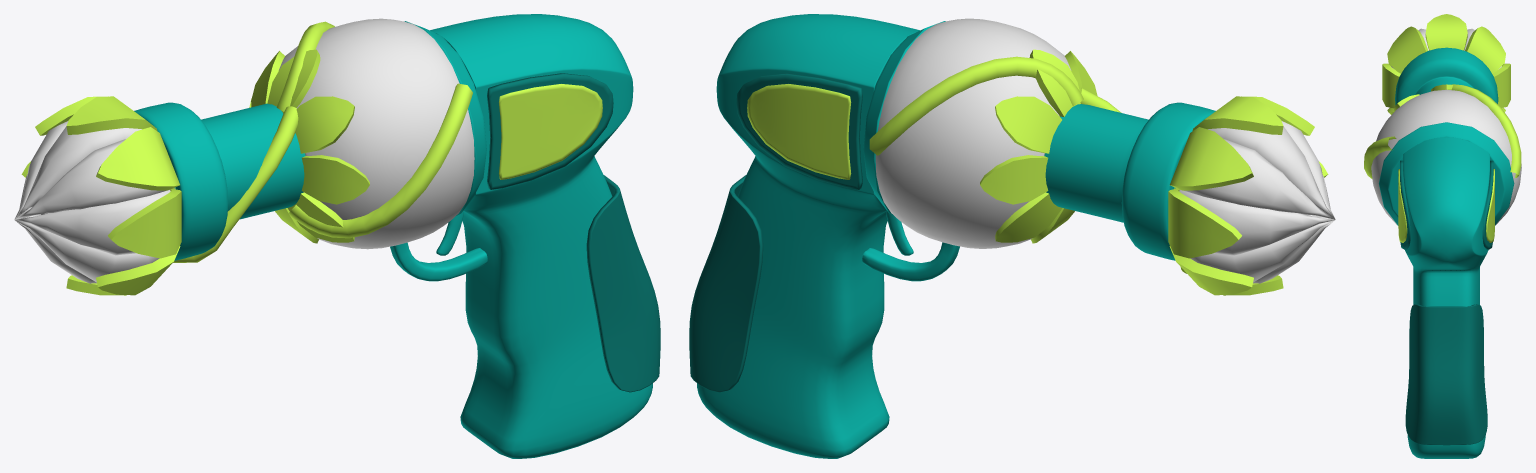
Rendered from Gun.fbx.
3 views of the same model, side by side, from view 1: azimuth 30°, elevation 25°; view 2: azimuth 150°, elevation 25°; view 3: azimuth 270°, elevation 25° (orthographic). The views are drawn at different scales.
Parts seen in each view (by area): view 1: Cube.003; view 2: Cube.003; view 3: Cube.003.
Boxes of the visible parts, <box> form: Cube.003: <box>14,14,660,458</box>; Cube.003: <box>689,14,1335,458</box>; Cube.003: <box>1364,14,1521,458</box>.
Bounding box in the file's own units: 320 × 974 × 656.
